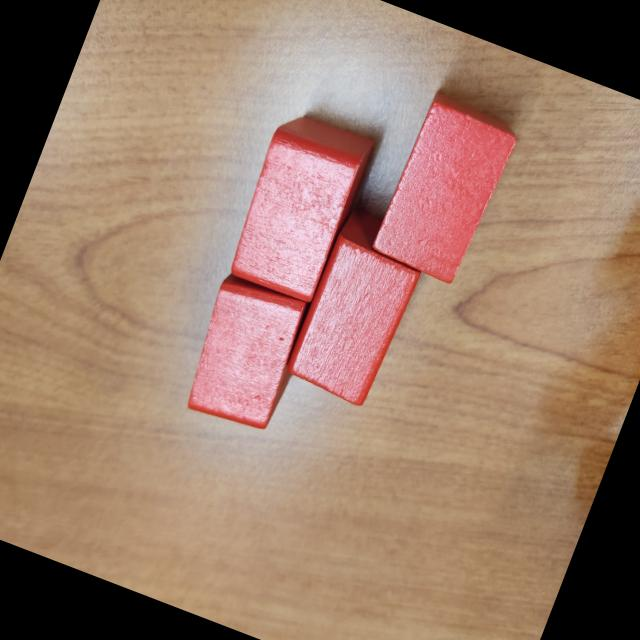red: (281, 204, 436, 412), (220, 106, 378, 309), (368, 91, 522, 289), (176, 270, 318, 438)
